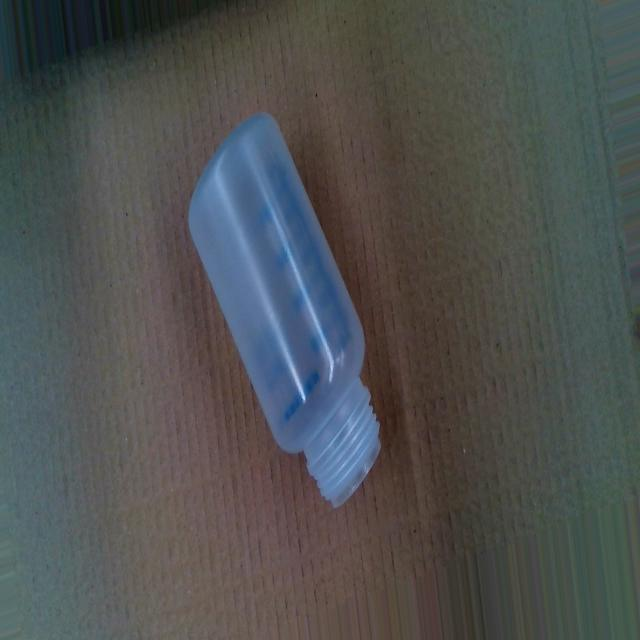bottle: (186, 108, 381, 512)
